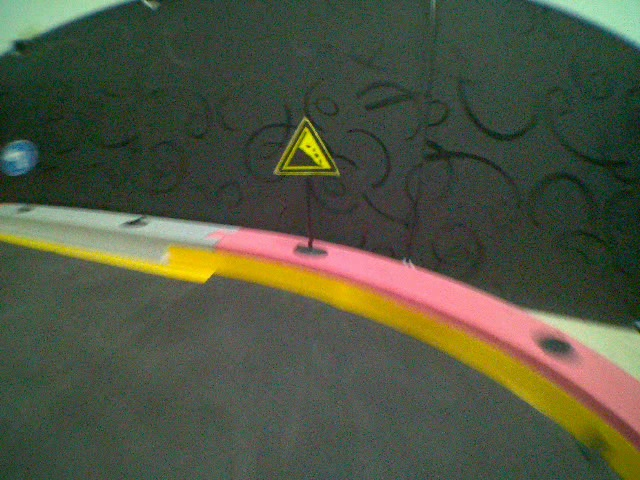fast: (271, 116, 341, 179)
